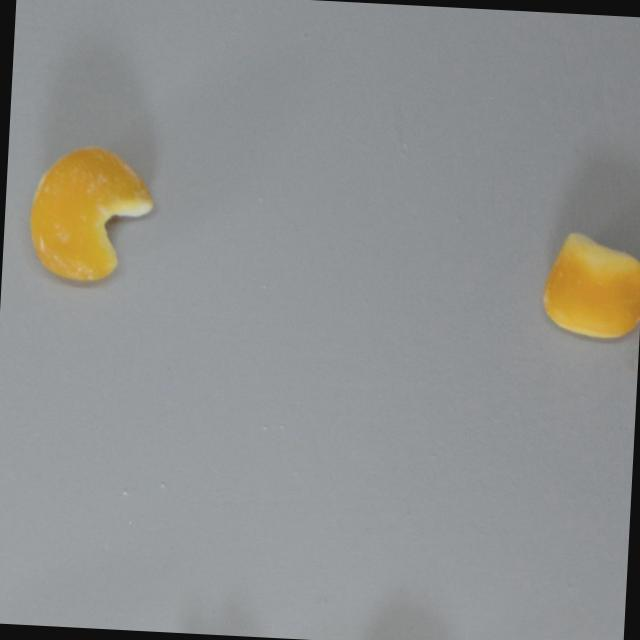no_canjicado: (25, 141, 157, 285), (540, 228, 640, 338)
